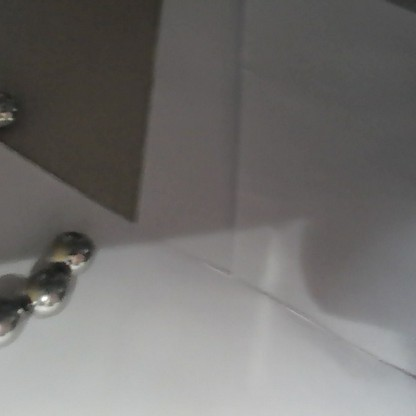ironball: (24, 263, 77, 314), (47, 229, 100, 273), (0, 283, 25, 348), (0, 88, 26, 133)
